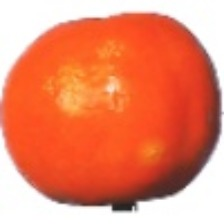tangerine: (33, 32, 189, 196)
